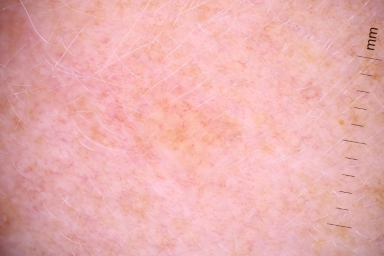melanoma: (127, 95, 245, 170), (294, 184, 366, 248), (257, 26, 337, 72), (252, 105, 313, 163)
